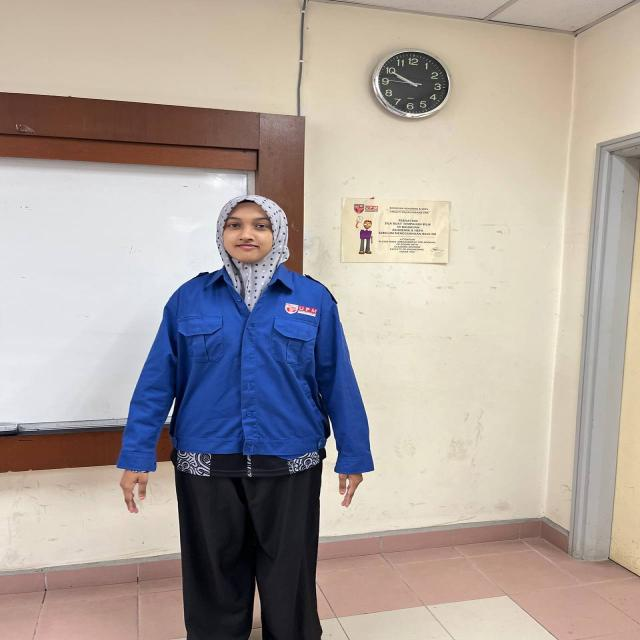person_with_labcoat: (117, 195, 373, 640)
